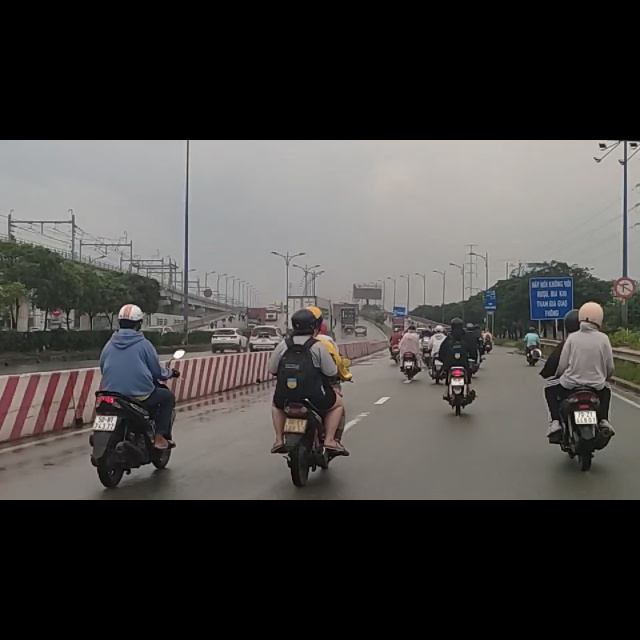bien_cam: (613, 243, 635, 279)
